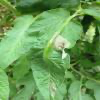Tomato leaf late blight: (21, 8, 85, 99)
